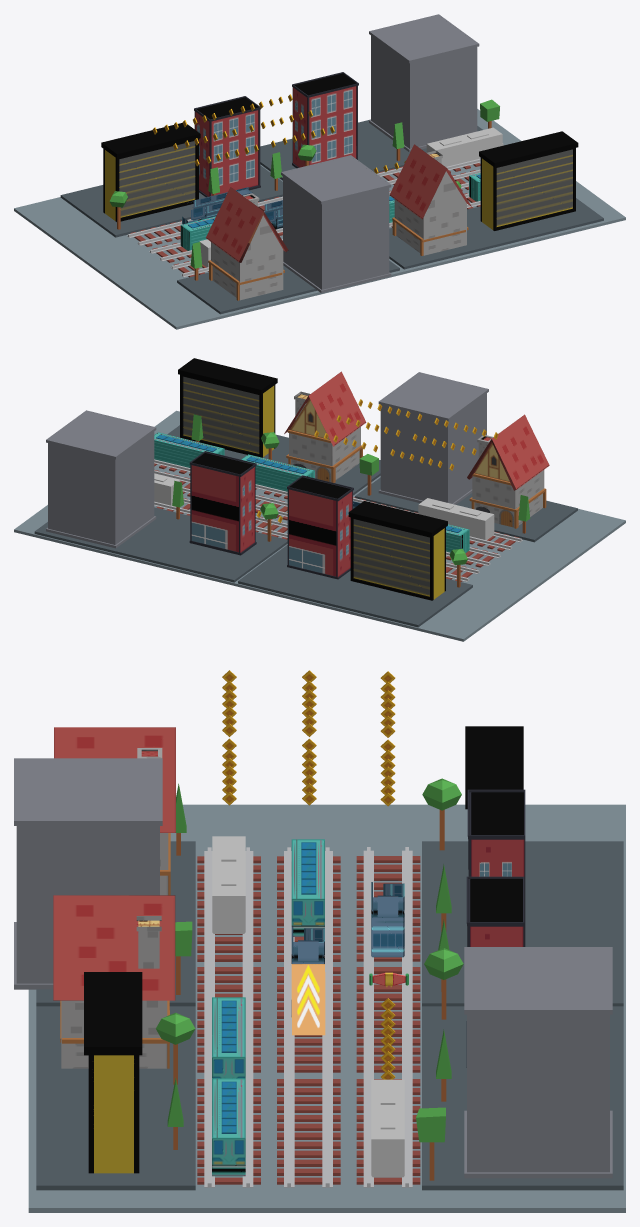
The model's file is kit 2.fbx.
3 views of the same model, one above another, from view 1: azimuth 30°, elevation 25°; view 2: azimuth 150°, elevation 25°; view 3: azimuth 270°, elevation 25° (orthographic). The views are drawn at different scales.
Visible parts, largest first — view 1: Cube.046, ground.001, Cube.041, Cube.060, Cube.040, Cylinder.003, Cylinder.004, Cube.042, Cube.055, Cube.059, Cube.045, Cube.058 (+7 smaller); view 2: Cube.041, ground.001, Cube.046, Cube.040, Cube.060, Cube.045, Cube.055, Cylinder.003, Cube.042, Cube.058, Cylinder.004, Cube.056 (+10 smaller); view 3: ground.001, Cube.041, Cube.046, Cube.045, Cube.059, Cylinder.004, Cube.060, Cube.058, Cube.061, Cylinder.003, Cube.050, Cube.042 (+23 smaller).
Part boxes in pixels (x1,y1,x2,y2): Cube.046: [281, 155, 391, 293]; ground.001: [14, 109, 625, 329]; Cube.041: [369, 14, 479, 152]; Cube.060: [479, 131, 578, 230]; Cube.040: [101, 123, 200, 221]; Cylinder.003: [206, 187, 288, 300]; Cylinder.004: [389, 144, 471, 255]; Cube.042: [194, 96, 260, 197]; Cube.055: [292, 72, 358, 168]; Cube.059: [389, 198, 603, 269]; Cube.045: [60, 165, 282, 237]; Cube.058: [260, 119, 482, 180]; Cube.041: [46, 410, 156, 548]; ground.001: [14, 410, 625, 641]; Cube.046: [378, 372, 488, 504]; Cube.040: [348, 501, 447, 600]; Cube.060: [178, 358, 277, 457]; Cube.045: [238, 545, 472, 627]; Cube.055: [189, 451, 256, 555]; Cylinder.003: [467, 414, 549, 528]; Cube.042: [287, 475, 353, 579]; Cube.058: [34, 507, 287, 582]; Cylinder.004: [284, 371, 366, 482]; Cube.056: [355, 477, 577, 542]; ground.001: [28, 804, 625, 1212]; Cube.041: [464, 947, 612, 1178]; Cube.046: [14, 758, 162, 989]; Cube.045: [422, 841, 623, 1006]; Cube.059: [36, 1006, 195, 1190]; Cylinder.004: [53, 895, 175, 1068]; Cube.060: [84, 972, 142, 1173]; Cube.058: [422, 1006, 623, 1190]; Cube.061: [277, 1070, 340, 1187]; Cylinder.003: [54, 727, 175, 895]; Cube.050: [356, 958, 420, 1073]; Cube.042: [467, 789, 525, 946].
Size of the model in its own units: 3600 by 859 by 2307.
